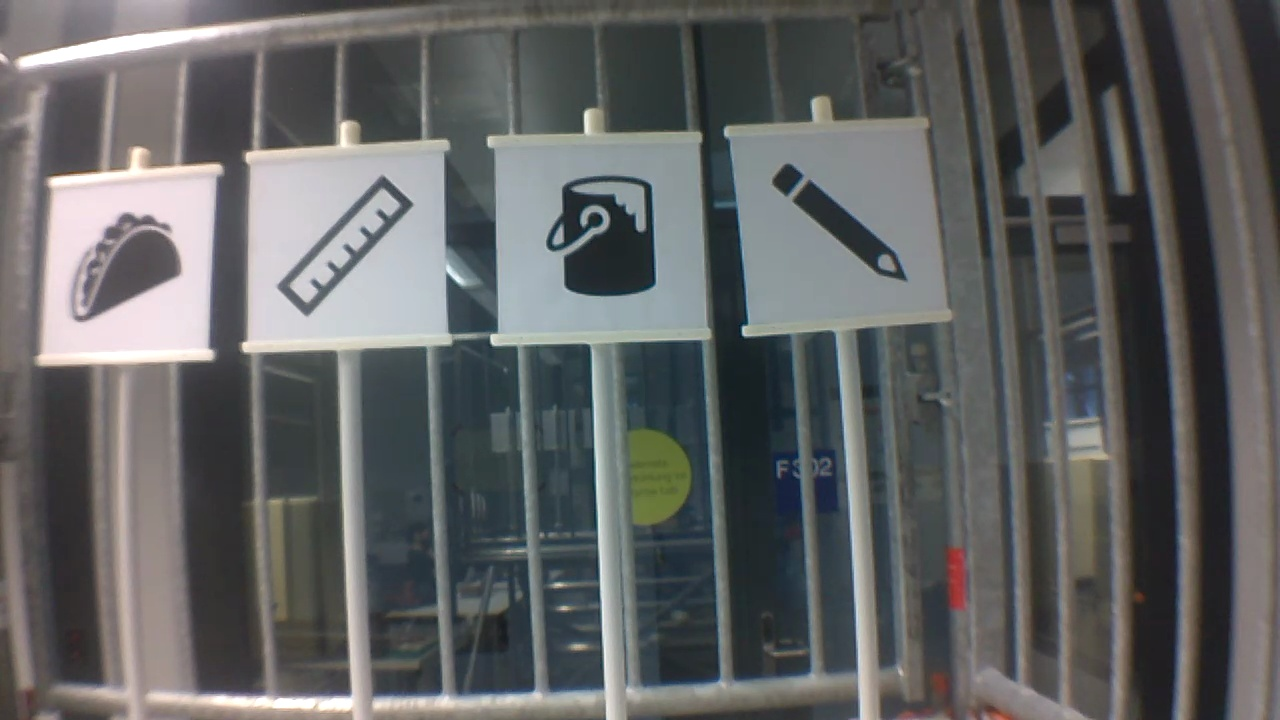bucket: (536, 170, 660, 303)
pencil: (758, 156, 914, 289)
ruler: (266, 167, 421, 323)
taco: (65, 206, 185, 325)
